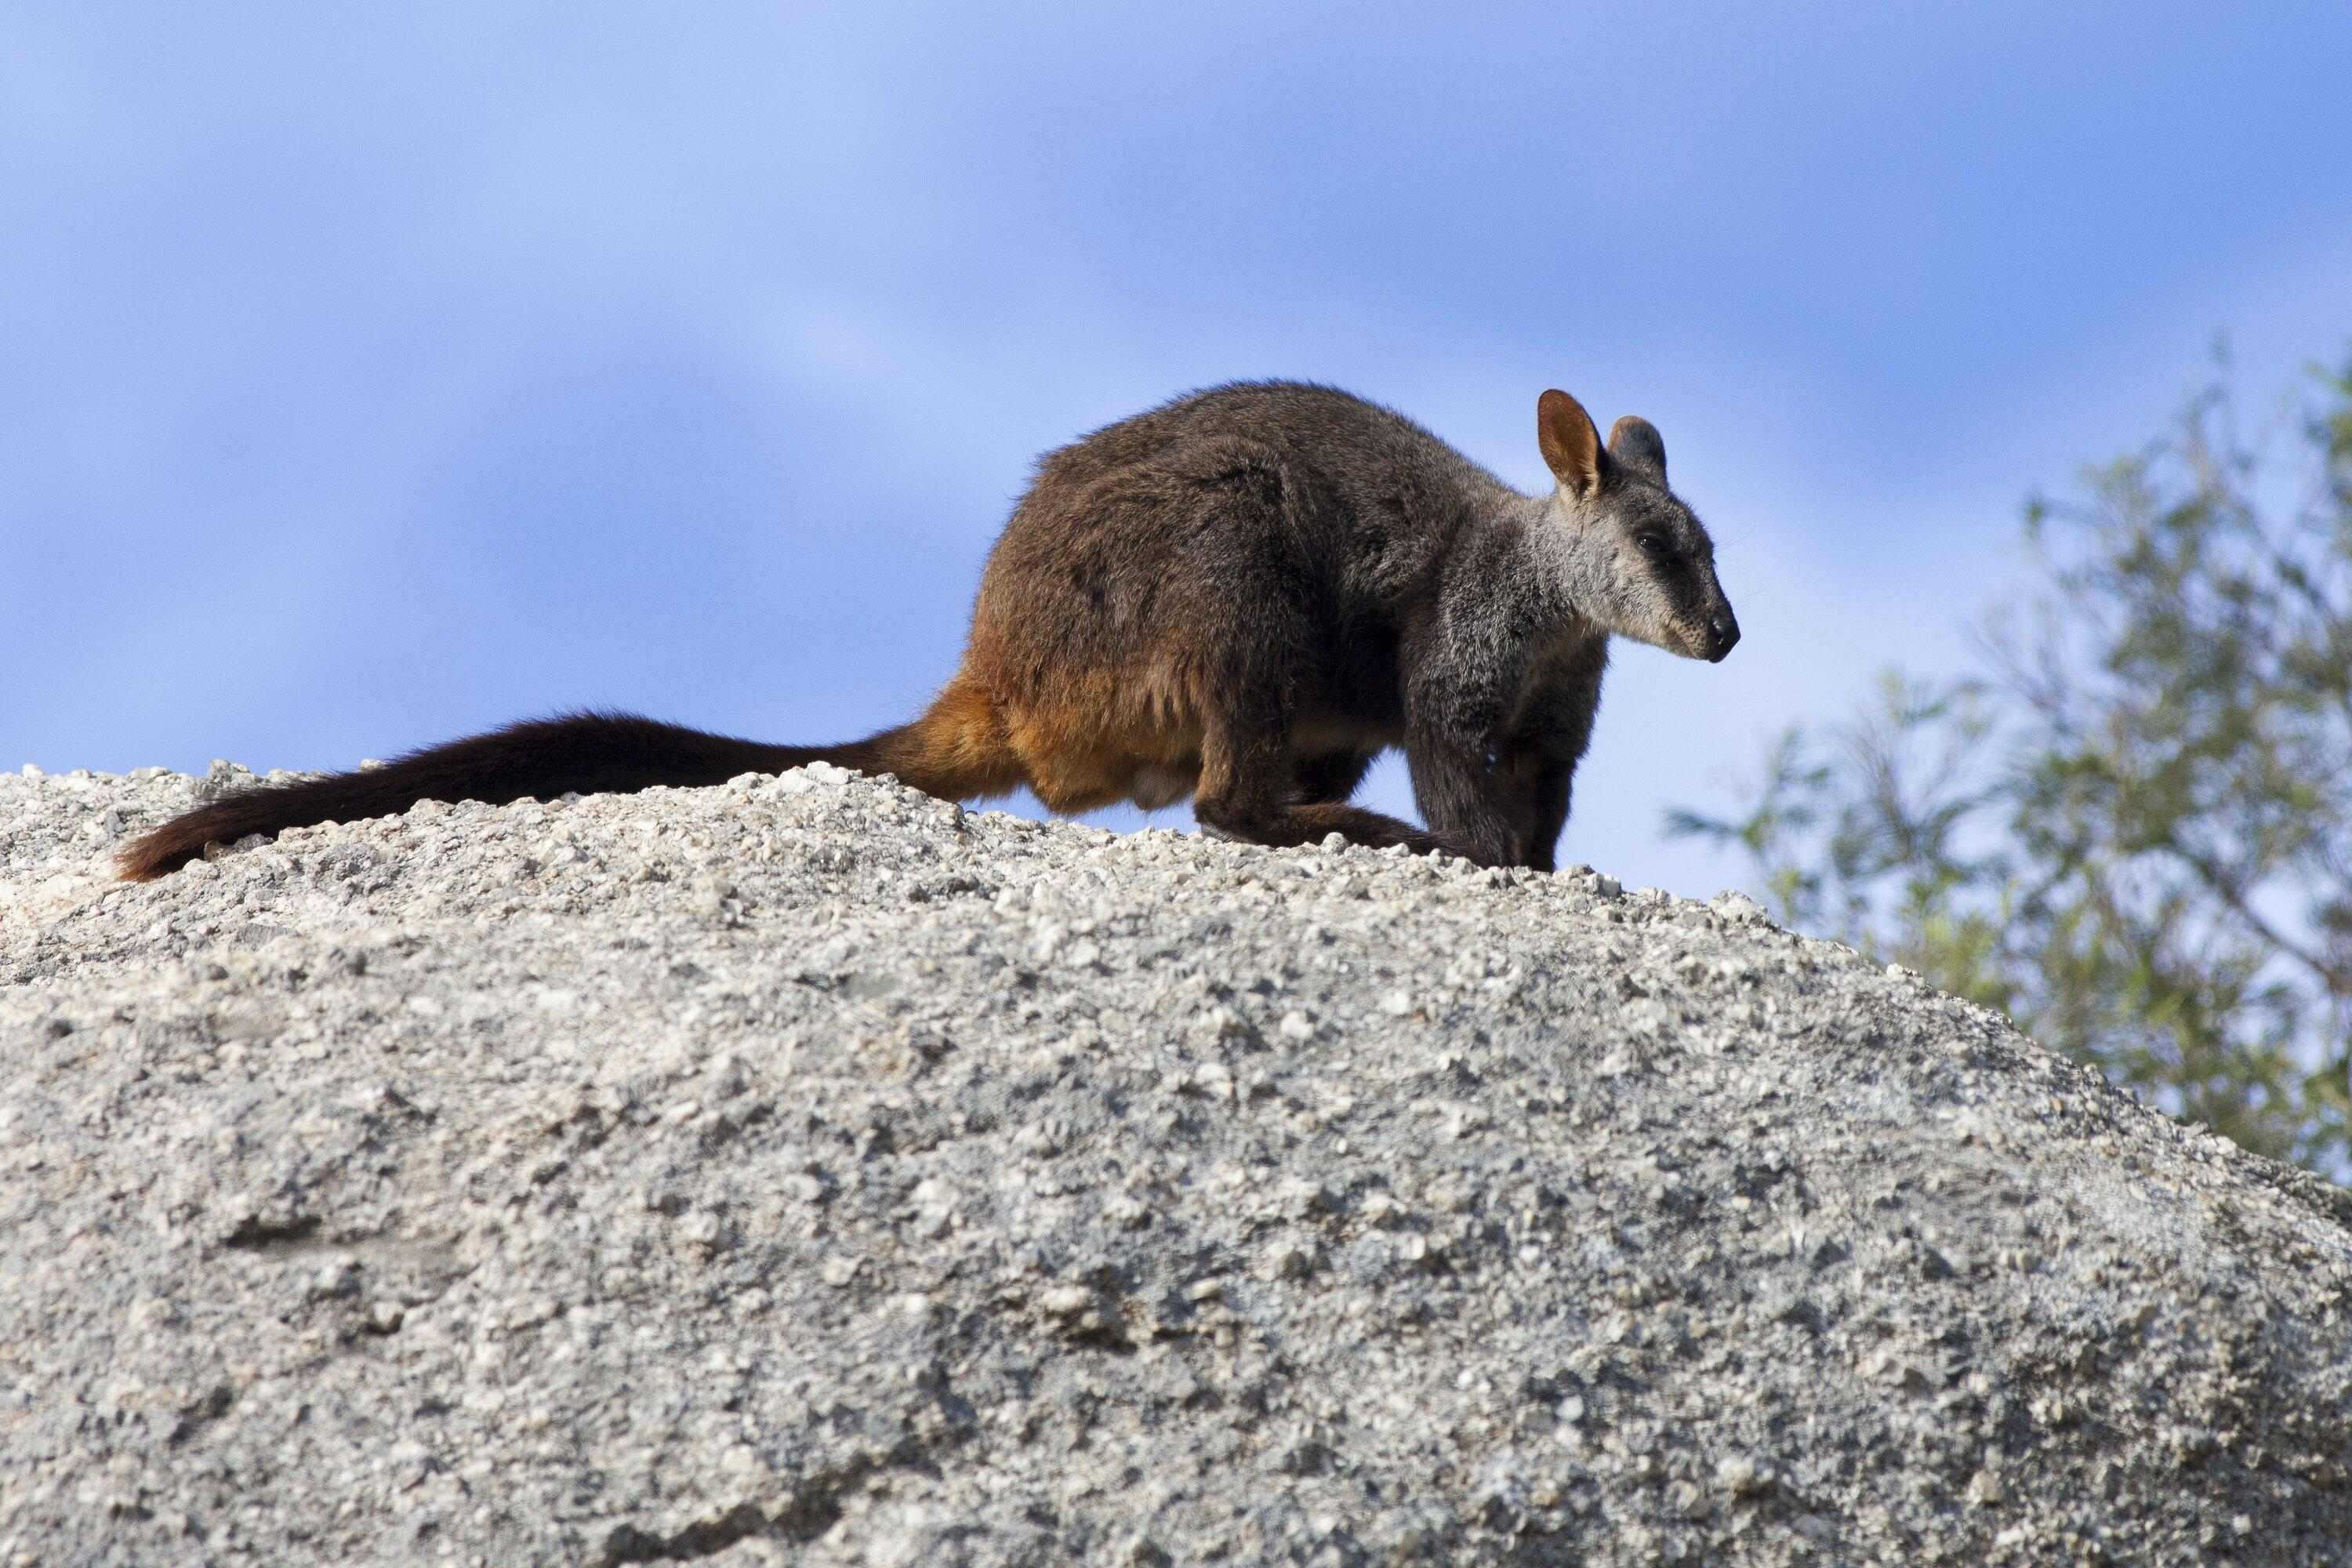Brush-tailed rock-wallaby: (107, 380, 1754, 910)
